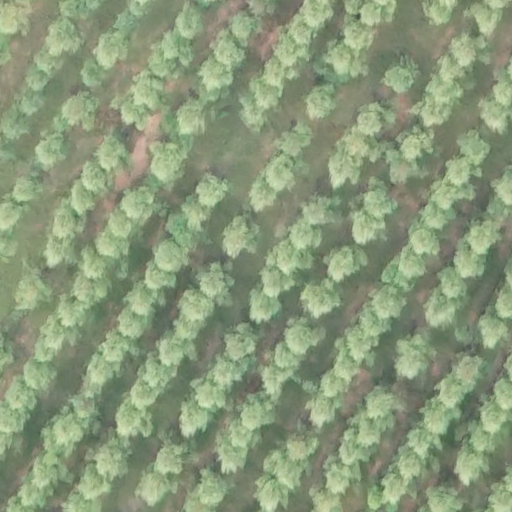eucalipto: (390, 332, 437, 378), (416, 293, 465, 329), (416, 395, 460, 434), (321, 43, 366, 81), (265, 448, 310, 486), (148, 140, 185, 186), (61, 92, 103, 132), (13, 269, 50, 313), (342, 324, 381, 365), (42, 18, 84, 56), (300, 283, 342, 321), (347, 410, 395, 443), (266, 241, 313, 274), (322, 247, 367, 281), (378, 254, 418, 292), (453, 240, 488, 283), (214, 432, 248, 476), (114, 400, 152, 439), (193, 467, 232, 505), (475, 98, 512, 137), (322, 454, 362, 490), (162, 211, 203, 246), (51, 203, 86, 242), (223, 218, 258, 257), (178, 397, 212, 437), (280, 427, 320, 461), (428, 180, 474, 209), (220, 323, 256, 360), (256, 474, 292, 511), (467, 221, 504, 257), (394, 446, 430, 483), (141, 354, 179, 389), (241, 394, 279, 429), (175, 100, 209, 139), (148, 38, 179, 80), (22, 354, 58, 390), (115, 306, 153, 340), (135, 473, 173, 507), (453, 450, 491, 484), (378, 64, 418, 96), (360, 385, 400, 417), (338, 431, 378, 463), (344, 1, 397, 25), (197, 58, 233, 93), (1, 376, 37, 411), (326, 152, 362, 187), (41, 234, 78, 268), (76, 466, 113, 500), (94, 32, 127, 70), (274, 124, 313, 156), (177, 291, 216, 323), (467, 1, 506, 33), (454, 130, 493, 162), (125, 279, 165, 310), (339, 129, 374, 164), (28, 451, 62, 487), (96, 442, 130, 478), (396, 128, 432, 162), (40, 423, 73, 460), (284, 322, 321, 355), (475, 315, 508, 352), (350, 214, 388, 246), (73, 274, 113, 304), (366, 288, 406, 318), (246, 76, 280, 111), (436, 267, 471, 301), (70, 390, 99, 431), (57, 294, 90, 330), (245, 291, 282, 323), (36, 133, 67, 171), (95, 134, 126, 172), (135, 70, 165, 109), (211, 31, 245, 65), (193, 377, 227, 411), (416, 1, 457, 29), (413, 99, 452, 128), (97, 226, 130, 260), (195, 173, 228, 207), (264, 156, 296, 191), (162, 30, 193, 66), (151, 241, 187, 272), (363, 186, 399, 217), (227, 418, 263, 449), (356, 304, 392, 335), (303, 394, 339, 425), (405, 427, 441, 458), (82, 245, 112, 282), (258, 267, 296, 296), (120, 187, 153, 220), (154, 443, 187, 476), (82, 162, 114, 196), (286, 16, 320, 48), (272, 35, 306, 67), (305, 86, 339, 118), (247, 178, 279, 212), (50, 417, 85, 448), (298, 196, 333, 227), (442, 156, 477, 187), (207, 358, 244, 387), (68, 178, 96, 216), (16, 480, 54, 508), (288, 220, 322, 251), (175, 6, 205, 41), (86, 355, 121, 385), (380, 473, 415, 503), (76, 53, 105, 89), (435, 376, 471, 405), (424, 75, 461, 103), (61, 487, 102, 512), (422, 487, 463, 512), (195, 266, 227, 298), (448, 355, 482, 385), (260, 60, 291, 92), (140, 263, 178, 289), (41, 315, 69, 350), (318, 369, 353, 397), (1, 404, 31, 436), (100, 332, 132, 362), (478, 400, 508, 432), (466, 422, 496, 454), (272, 341, 305, 370), (398, 245, 426, 279), (121, 95, 147, 131), (408, 227, 440, 256), (126, 381, 160, 408), (421, 203, 455, 230), (23, 63, 52, 94), (241, 101, 270, 132), (180, 195, 211, 224), (447, 36, 476, 67), (341, 23, 373, 51), (331, 353, 363, 381), (353, 110, 386, 137), (16, 91, 47, 119), (301, 1, 334, 27), (490, 167, 512, 205), (1, 198, 24, 234), (158, 338, 187, 366), (55, 1, 100, 19), (228, 12, 255, 42), (436, 54, 463, 83), (32, 336, 62, 362), (3, 111, 28, 142), (309, 488, 341, 512), (35, 48, 62, 76), (483, 486, 512, 512), (490, 77, 512, 109), (493, 374, 512, 411), (12, 175, 37, 203), (107, 212, 135, 237), (171, 316, 202, 338), (111, 10, 138, 34), (493, 286, 512, 316), (124, 1, 153, 18), (248, 1, 278, 17)
